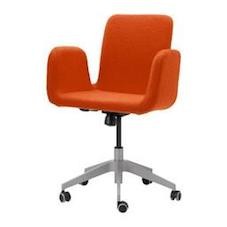chair: (34, 8, 189, 208)
